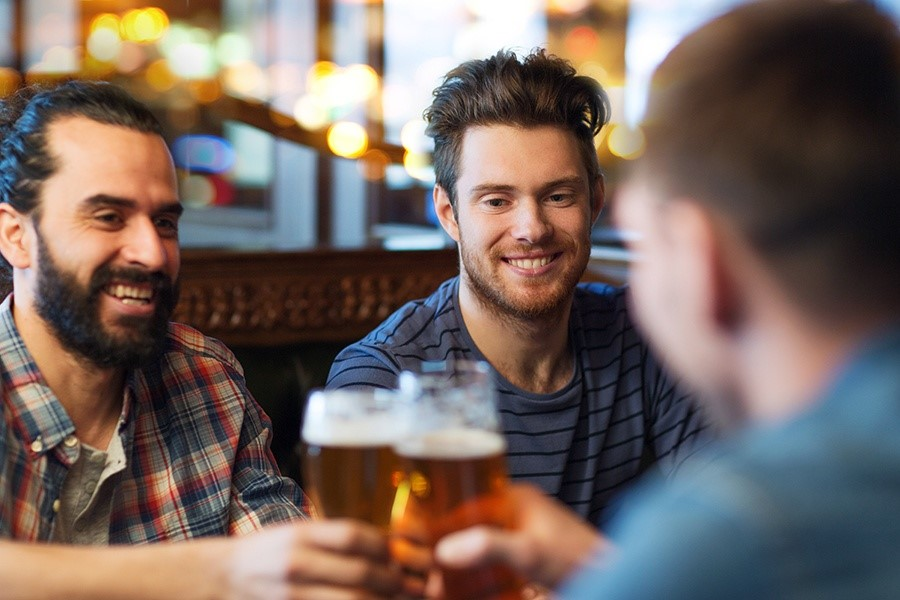face_no_mask: (3, 86, 181, 358), (427, 56, 605, 309)
